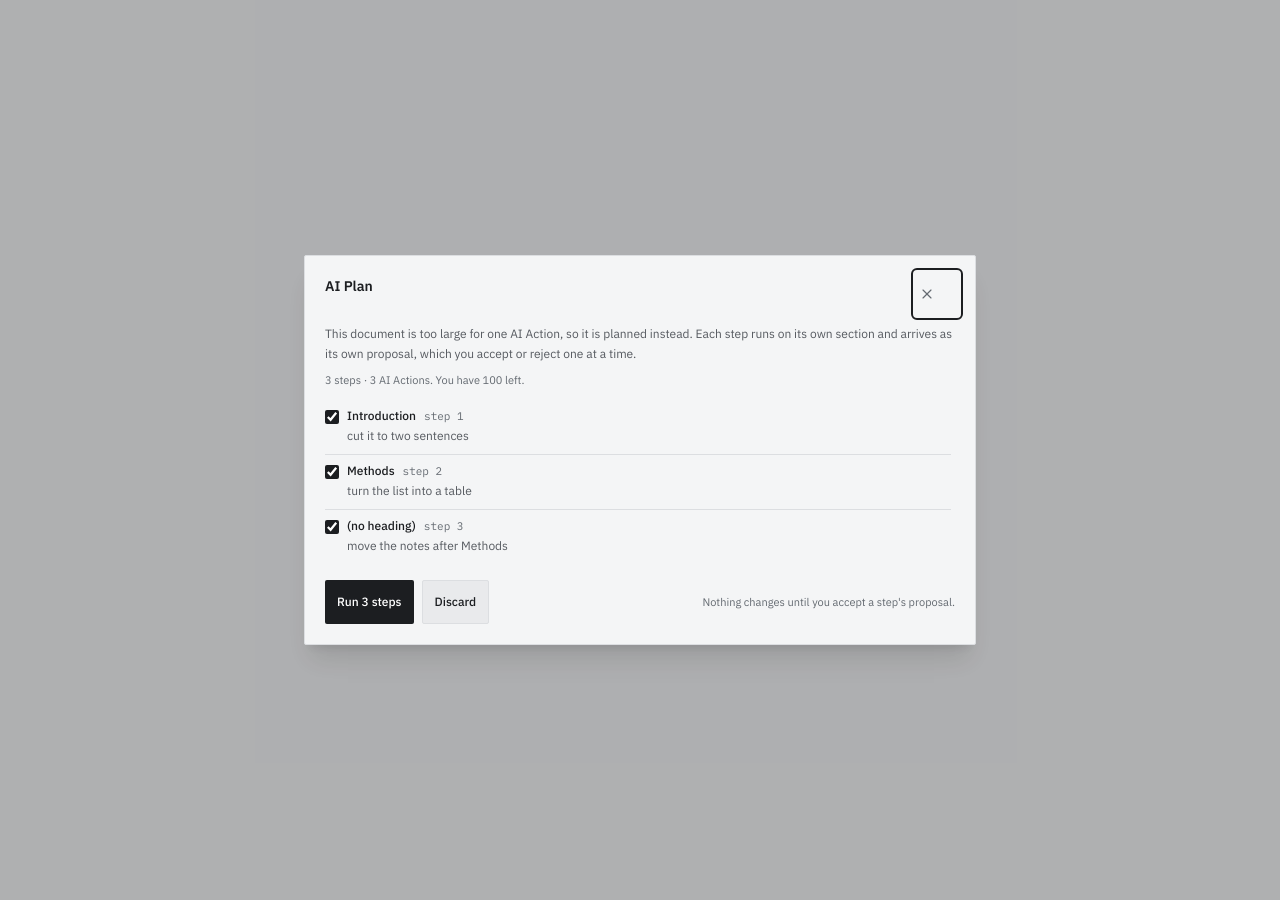
Scenario: the approval surface › refuses to run with nothing checked
The image size is (1280, 900).
Click the 1st checkbox.
click(332, 417)  # box [325,410,339,424]
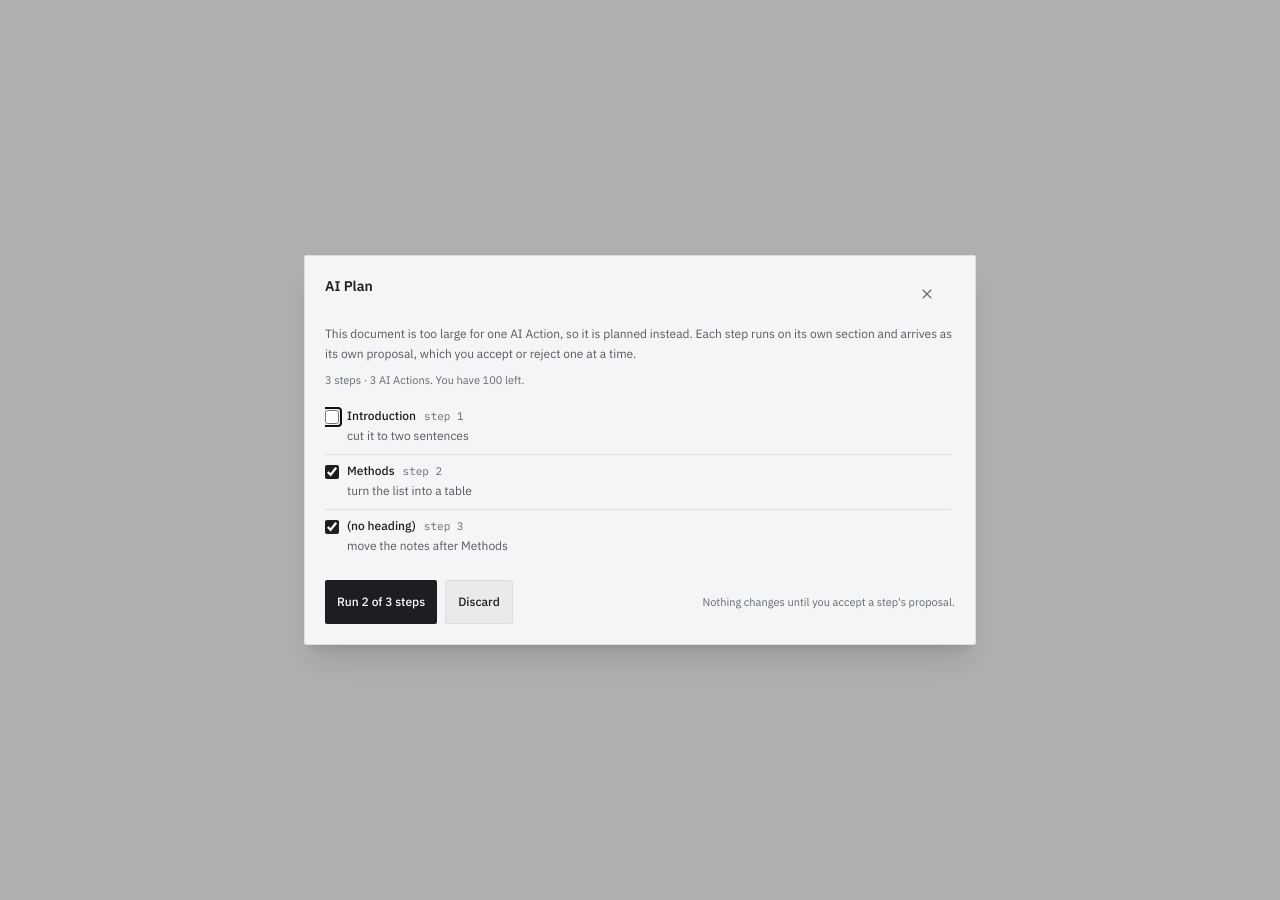
Click the 2nd checkbox.
click(332, 472)  # box [325,465,339,479]
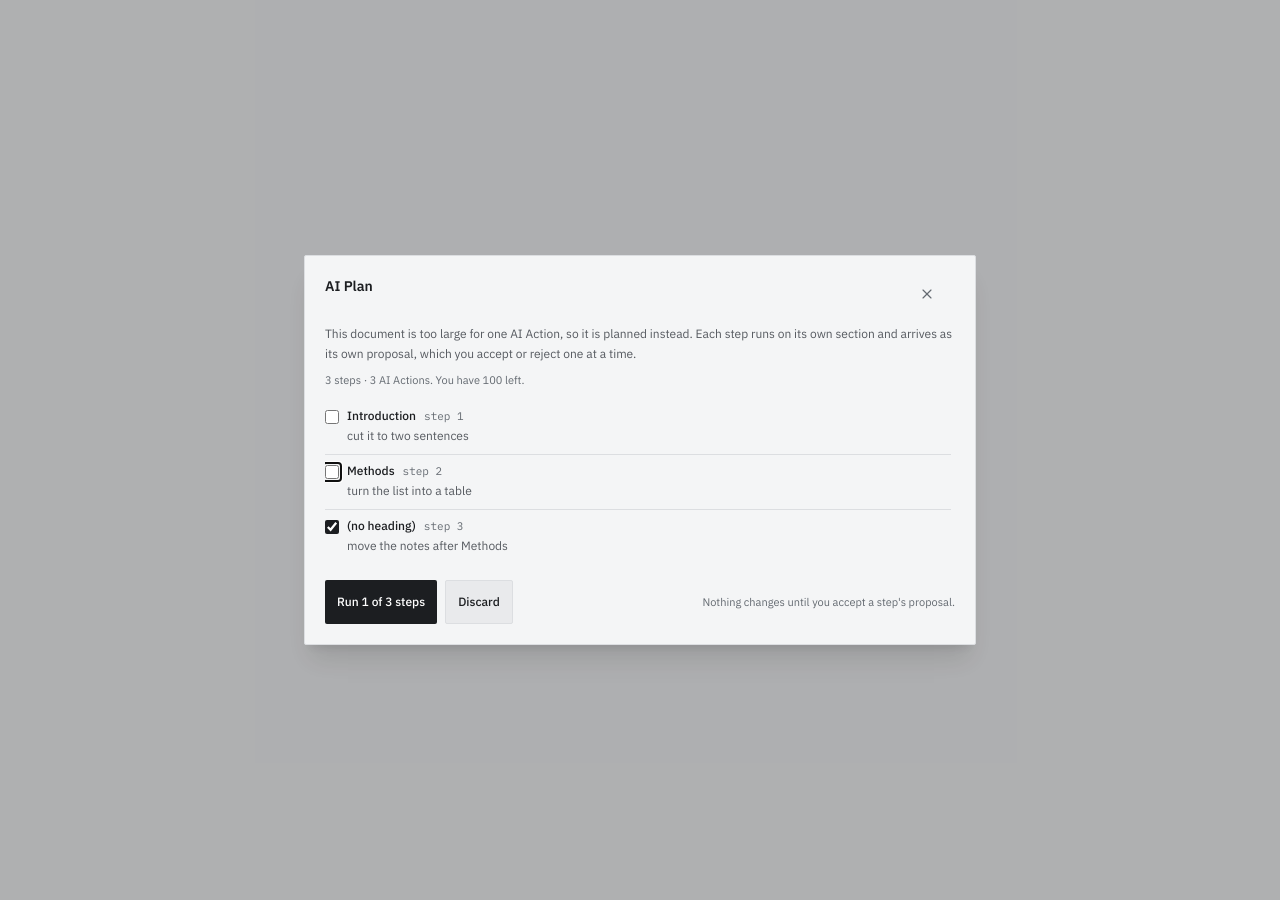
Click the checkbox labelled "(no heading)step 3 move the notes after Methods".
click(332, 527)  # box [325,520,339,534]
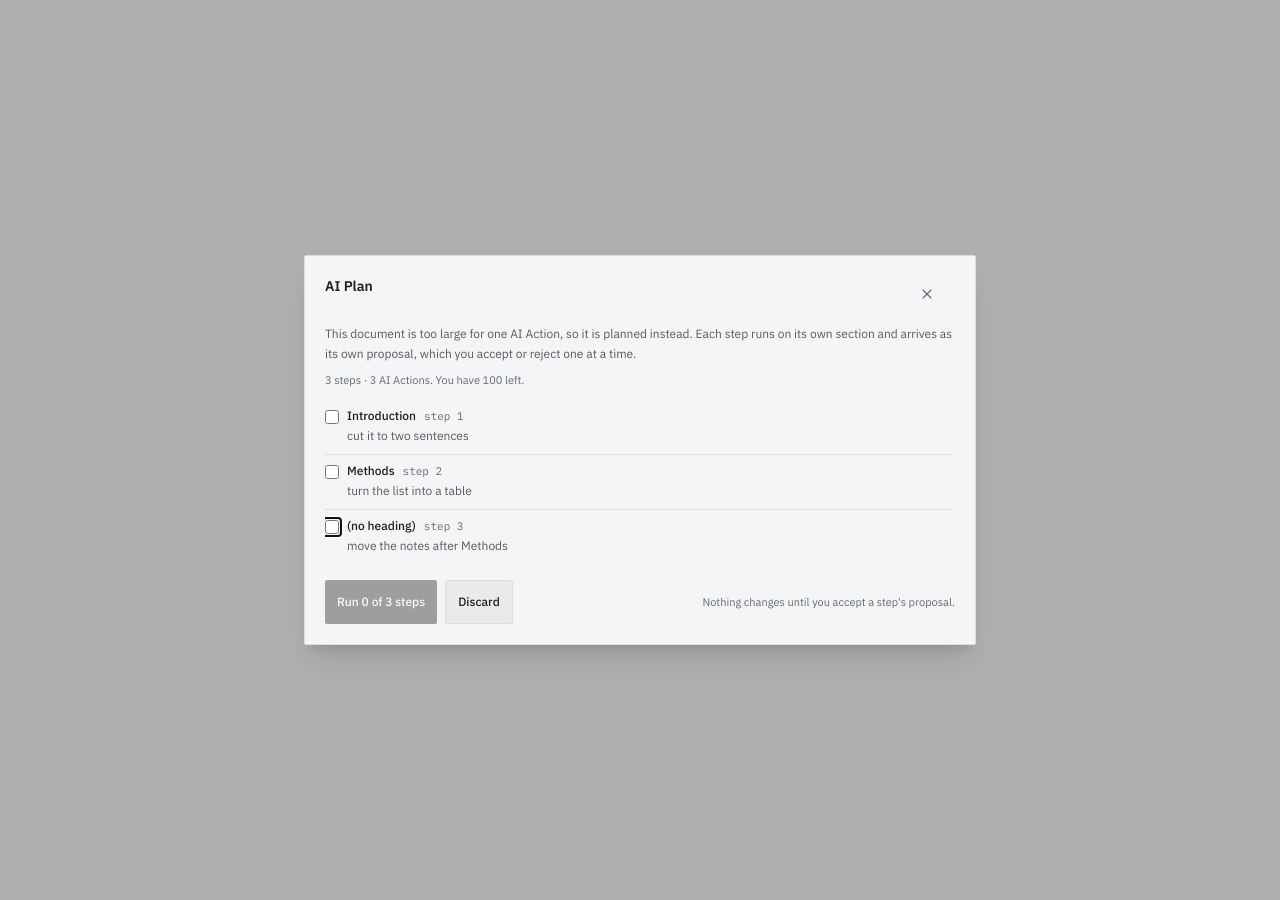
Expected: the button "Run 0 of 3 steps" is disabled, [325,580,437,624]
